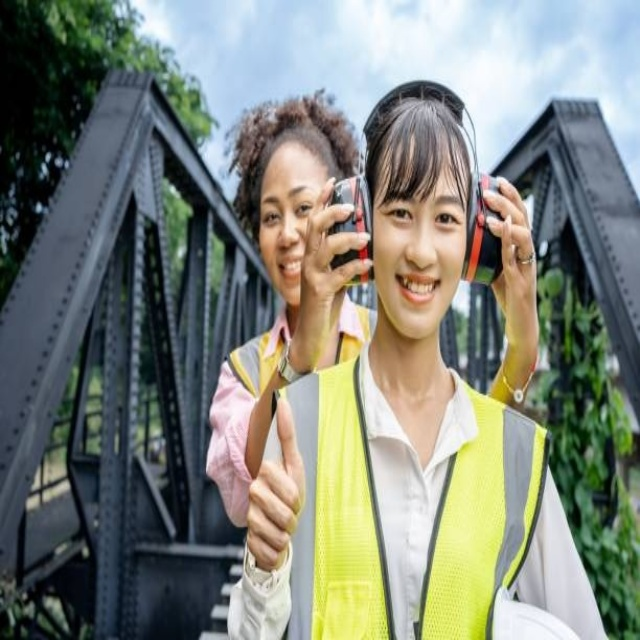Sin_gafas: (380, 191, 458, 237), (255, 185, 314, 234)
Sin_guantes: (291, 171, 370, 340), (241, 392, 303, 569), (479, 166, 540, 342)
Sin_mascara: (395, 272, 441, 305), (277, 257, 303, 278)
